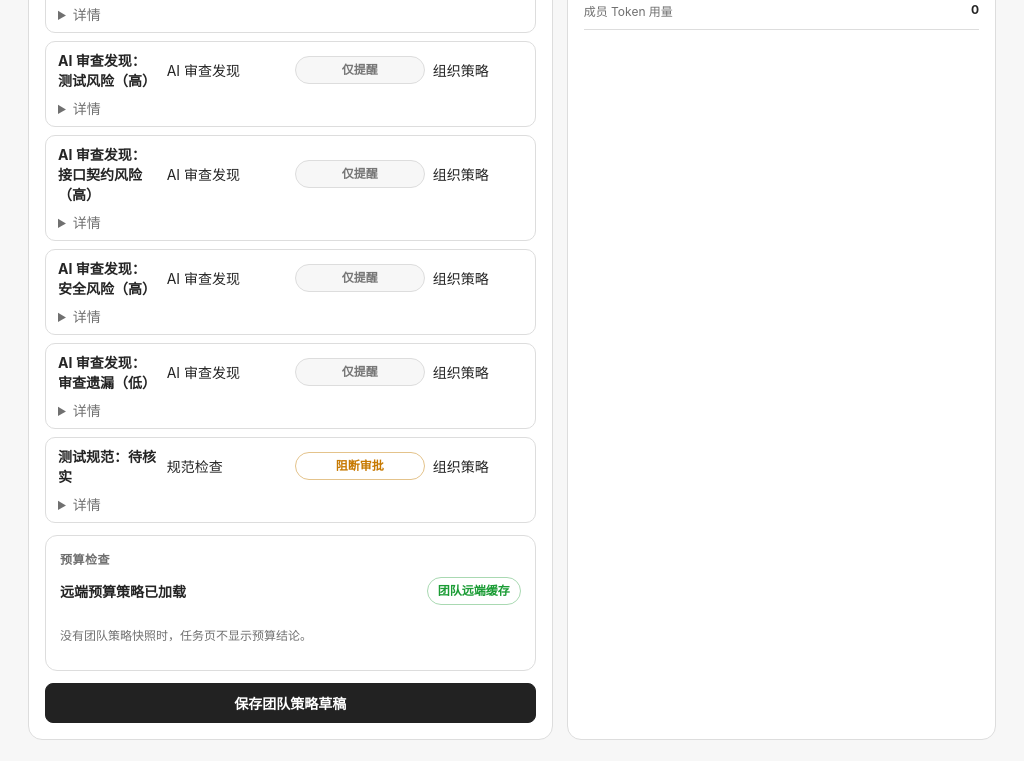
Test: TeamOverview › describes policy rules in Chinese and keeps each rule key in 详情
(page scrolled)
Expected: the text "测试规范：待核实" is shown, left=58, top=446, right=159, bottom=486
Expected: the text ":" is not shown
Note: The raw key is reachable once 详情 is opened.
Click the heading "详情" below "测试规范：待核实" at (87, 504), box left=73, top=496, right=101, bottom=513
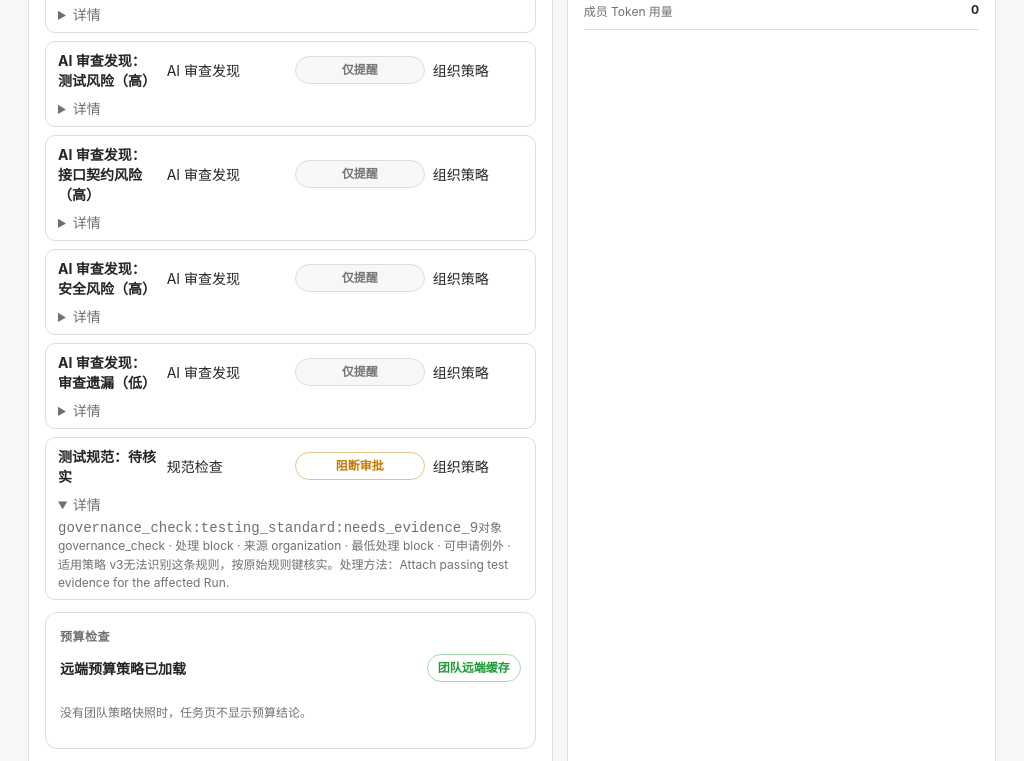
Now the text "governance_check:testing_standard:needs_evidence_9" is shown, box left=58, top=520, right=478, bottom=536
